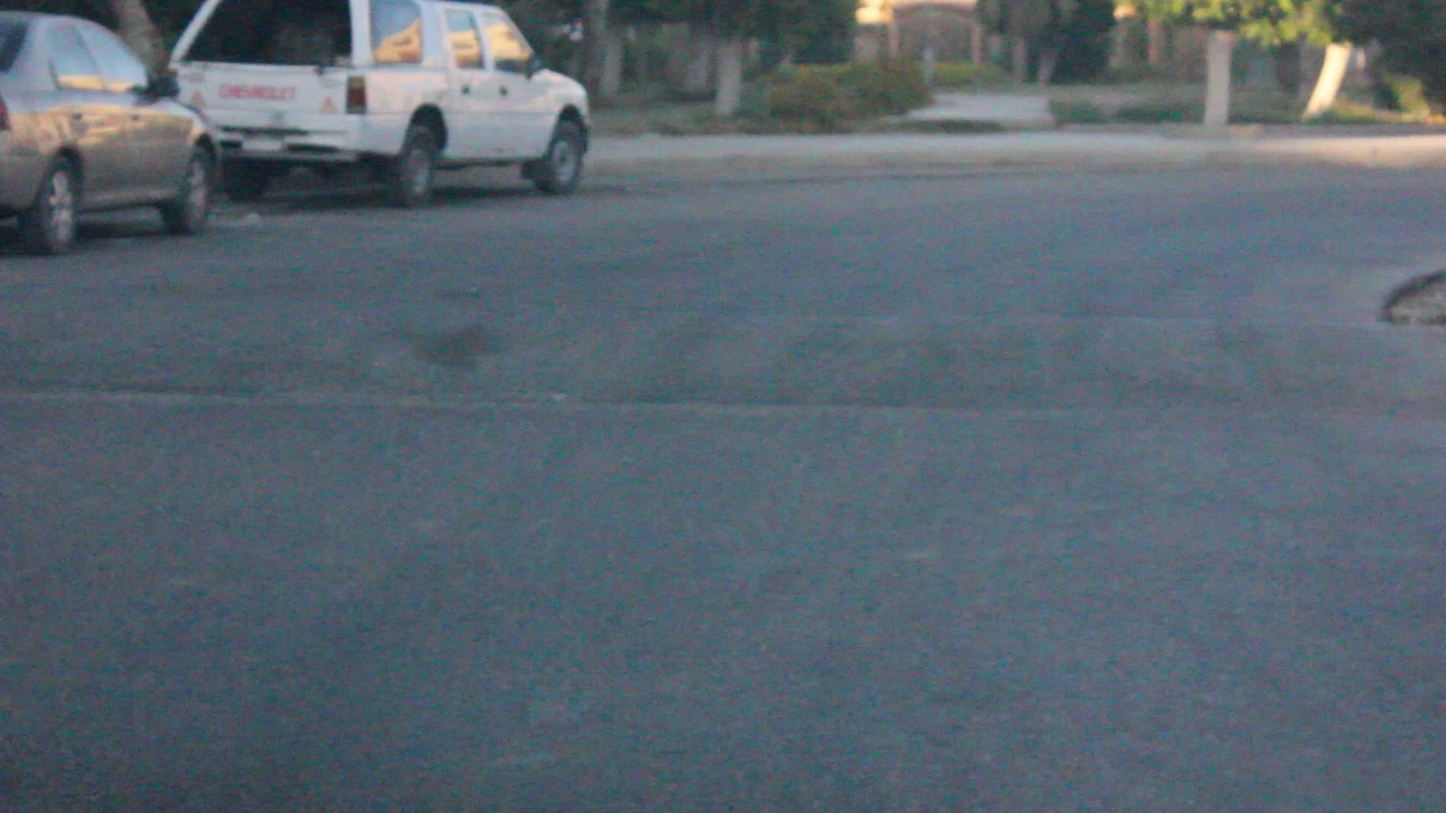Bump: (9, 267, 1442, 433)
